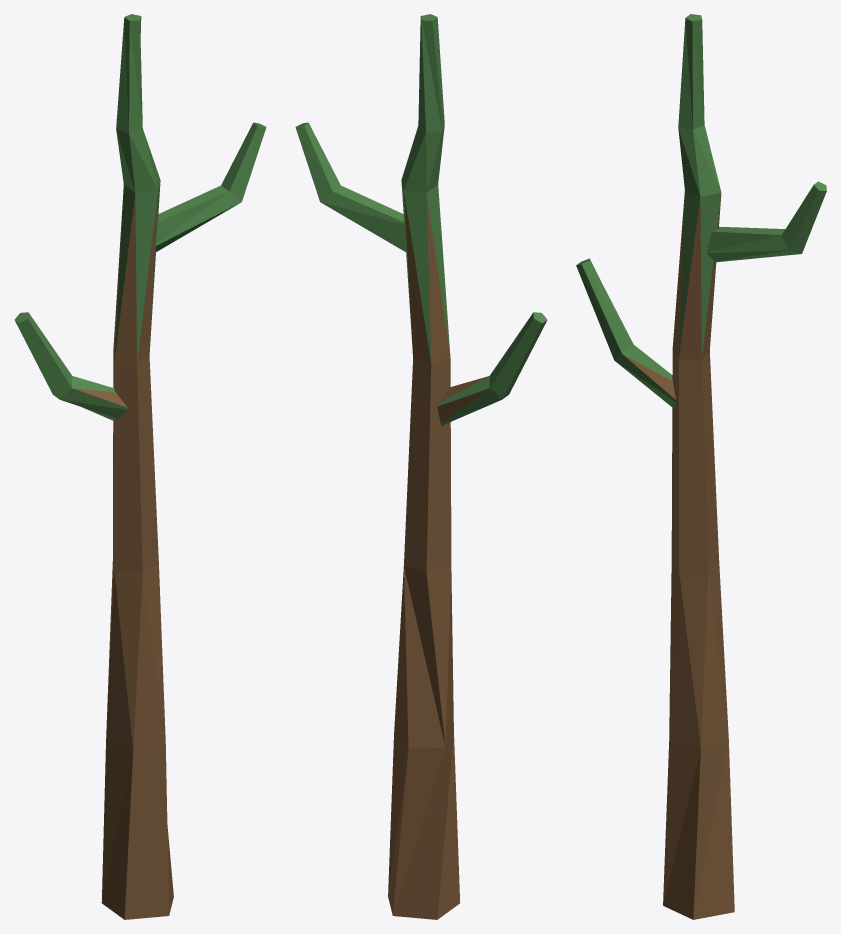
The model's file is tree3d-175.glb.
3 views of the same model, side by side, from view 1: azimuth 30°, elevation 25°; view 2: azimuth 150°, elevation 25°; view 3: azimuth 330°, elevation 25° (orthographic).
Parts seen in each view (by area): view 1: tree3d-175; view 2: tree3d-175; view 3: tree3d-175.
Part boxes in pixels (x1,y1,x2,y2): tree3d-175: (14, 14, 266, 919); tree3d-175: (295, 14, 547, 919); tree3d-175: (576, 14, 826, 919).
Bounding box in the file's own units: 0.2938 × 1 × 0.0752.
